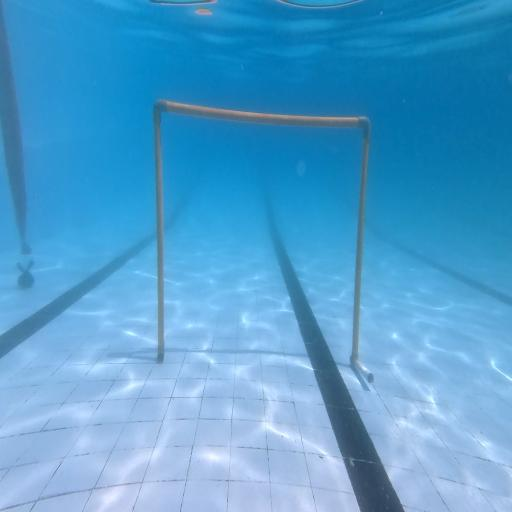gate: (153, 99, 374, 385)
